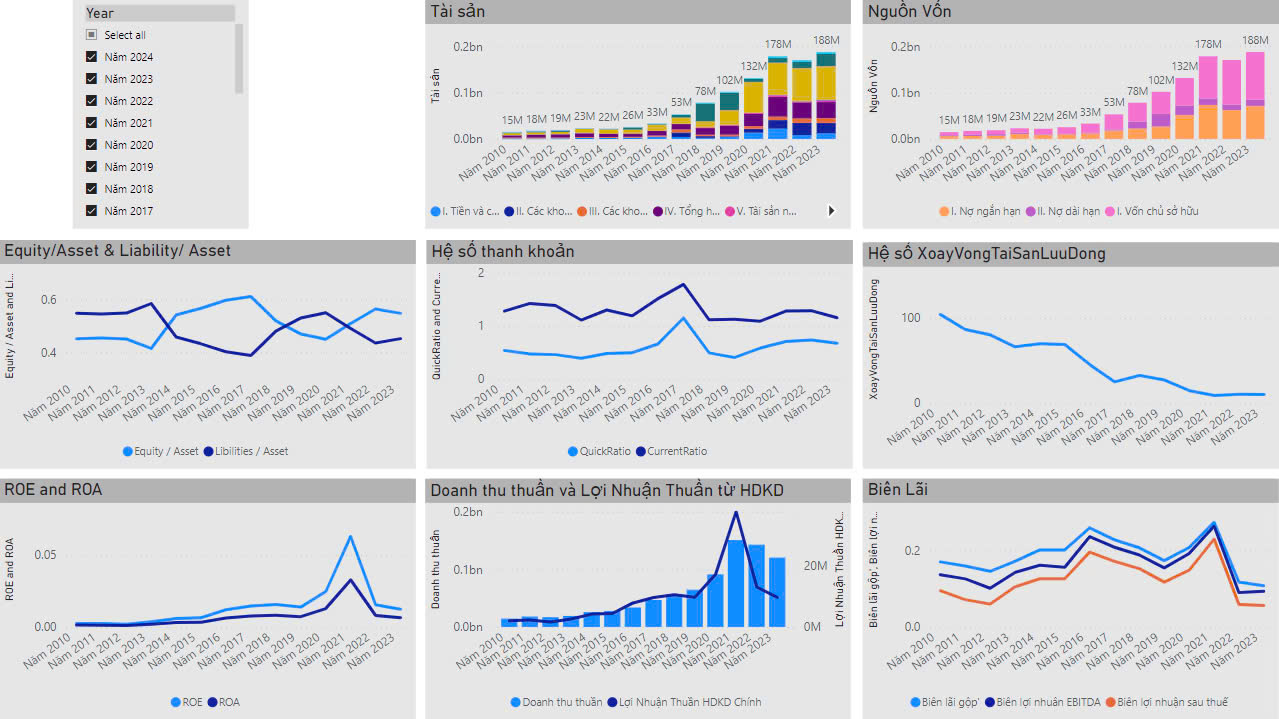

The dashboard page shown, as its layout file describes it:
{"tool":"powerbi","page":{"name":"Page 1","canvas":[1280,720],"ordinal":0},"visuals":[{"type":"columnChart","title":"Tài sản ","fields":{"Category":["YEAR_BS.Year"],"Y":["YEAR_BS.Tài sản"],"Series":["YEAR_BS.Chỉ tiêu"]},"box":[426.7,0,425.6,228.9],"z":0},{"type":"slicer","title":"Thời Gian","fields":{"Values":["DimYear.Formatted Year"]},"box":[74.1,0,175.6,229.2],"z":1000},{"type":"columnChart","title":"Nguồn Vốn","fields":{"Series":["YEAR_BS.Chỉ tiêu"],"Y":["YEAR_BS.Nguồn Vốn"],"Category":["YEAR_BS.Year"]},"box":[863.3,0,416.7,228.9],"z":2000},{"type":"lineChart","title":"Biên Lãi","fields":{"Category":["YEAR_MF.Year"],"Y":["YEAR_MF.Biên lãi gộp'","YEAR_MF.Biên lợi nhuân EBITDA","YEAR_MF.Biên lợi nhuận sau thuế"]},"box":[863.8,478.8,416.2,241.2],"z":3000},{"type":"lineChart","title":"ROE and ROA ","fields":{"Y":["YEAR_MF.ROE","YEAR_MF.ROA"],"Category":["YEAR_MF.Year"]},"box":[0,478.9,416.7,241.1],"z":4000},{"type":"lineStackedColumnComboChart","title":"Doanh thu thuần và Lợi Nhuận Thuần từ HDKD ","fields":{"Category":["YEAR_MF.Year"],"Y":["YEAR_MF.Doanh thu thuần"],"Y2":["YEAR_MF.Lợi Nhuận Thuần HDKD Chính"]},"box":[426.7,478.9,425.6,241.1],"z":5000},{"type":"lineChart","title":"Equity/Asset & Liability/ Asset","fields":{"Category":["YEAR_BS.Year"],"Y":["YEAR_BS.TongTaiSan_VonChuSoHuu","YEAR_BS.Tổng Nợ / Tổng Tài Sản"]},"box":[0,240,416.7,228.9],"z":6000},{"type":"lineChart","title":"Hệ số XoayVongTaiSanLuuDong ","fields":{"Y":["YEAR_BS.XoayVongTaiSanLuuDong"],"Category":["YEAR_BS.Year"]},"box":[863.3,242.2,416.7,226.7],"z":7000},{"type":"lineChart","title":"Hệ số thanh khoản","fields":{"Y":["YEAR_BS.QuickRatio","YEAR_BS.CurrentRatio"],"Category":["YEAR_BS.Year"]},"box":[427,240,426,229],"z":8000}]}

Visuals, with their boxes in screenshot pixels (x1, y1, x2, y2), scaled from the page's 1280x720 canvas onto the 1279x719 screenshot:
"Tài sản " columnChart: <bbox>426, 0, 852, 229</bbox>
"Thời Gian" slicer: <bbox>74, 0, 250, 229</bbox>
"Nguồn Vốn" columnChart: <bbox>863, 0, 1278, 229</bbox>
"Biên Lãi" lineChart: <bbox>863, 478, 1278, 718</bbox>
"ROE and ROA " lineChart: <bbox>0, 478, 416, 718</bbox>
"Doanh thu thuần và Lợi Nhuận Thuần từ HDKD " lineStackedColumnComboChart: <bbox>426, 478, 852, 718</bbox>
"Equity/Asset & Liability/ Asset" lineChart: <bbox>0, 240, 416, 468</bbox>
"Hệ số XoayVongTaiSanLuuDong " lineChart: <bbox>863, 242, 1278, 468</bbox>
"Hệ số thanh khoản" lineChart: <bbox>427, 240, 852, 468</bbox>
